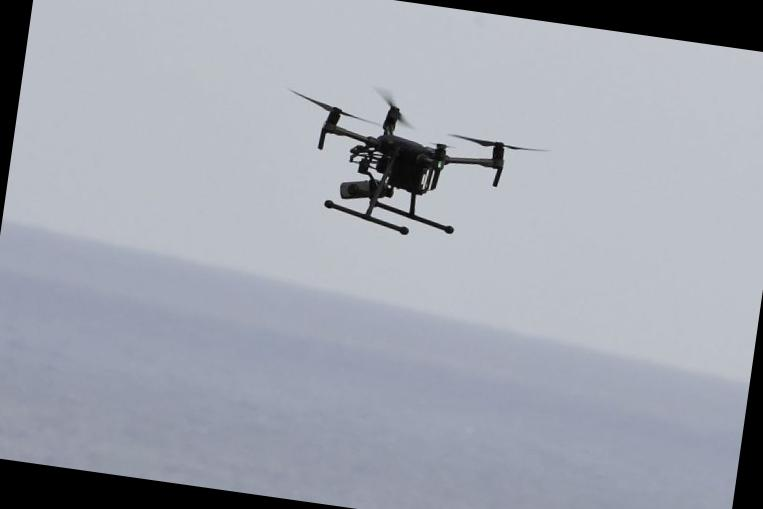drone: (272, 71, 544, 236)
